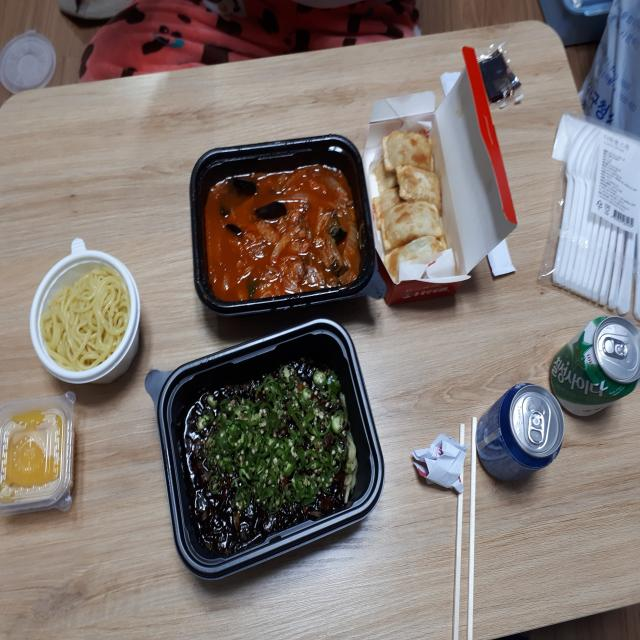Bowl: (189, 133, 376, 317), (29, 237, 141, 385)
Cup: (476, 382, 564, 483), (546, 317, 639, 411)
Plate: (154, 318, 386, 581)
